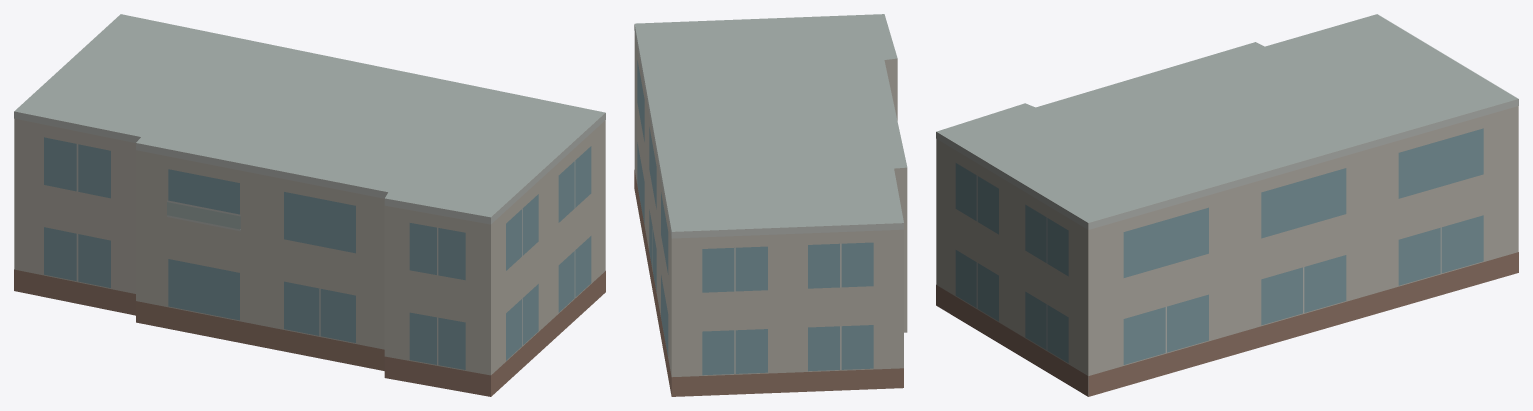
Rendered from survey-upis-32879161.glb.
The picture shows the model from 3 angles, left to right: view 1: azimuth 30°, elevation 25°; view 2: azimuth 150°, elevation 25°; view 3: azimuth 270°, elevation 25°; orthographic projection. The views are drawn at different scales.
Visible parts, largest first — view 1: survey-upis-32879161.tmp; view 2: survey-upis-32879161.tmp; view 3: survey-upis-32879161.tmp.
Boxes of the visible parts, bbox=[...] form: survey-upis-32879161.tmp: bbox=[14, 14, 605, 396]; survey-upis-32879161.tmp: bbox=[634, 14, 907, 396]; survey-upis-32879161.tmp: bbox=[936, 14, 1518, 396].
Bounding box in the file's own units: 15.74 × 6.1 × 18.54.
